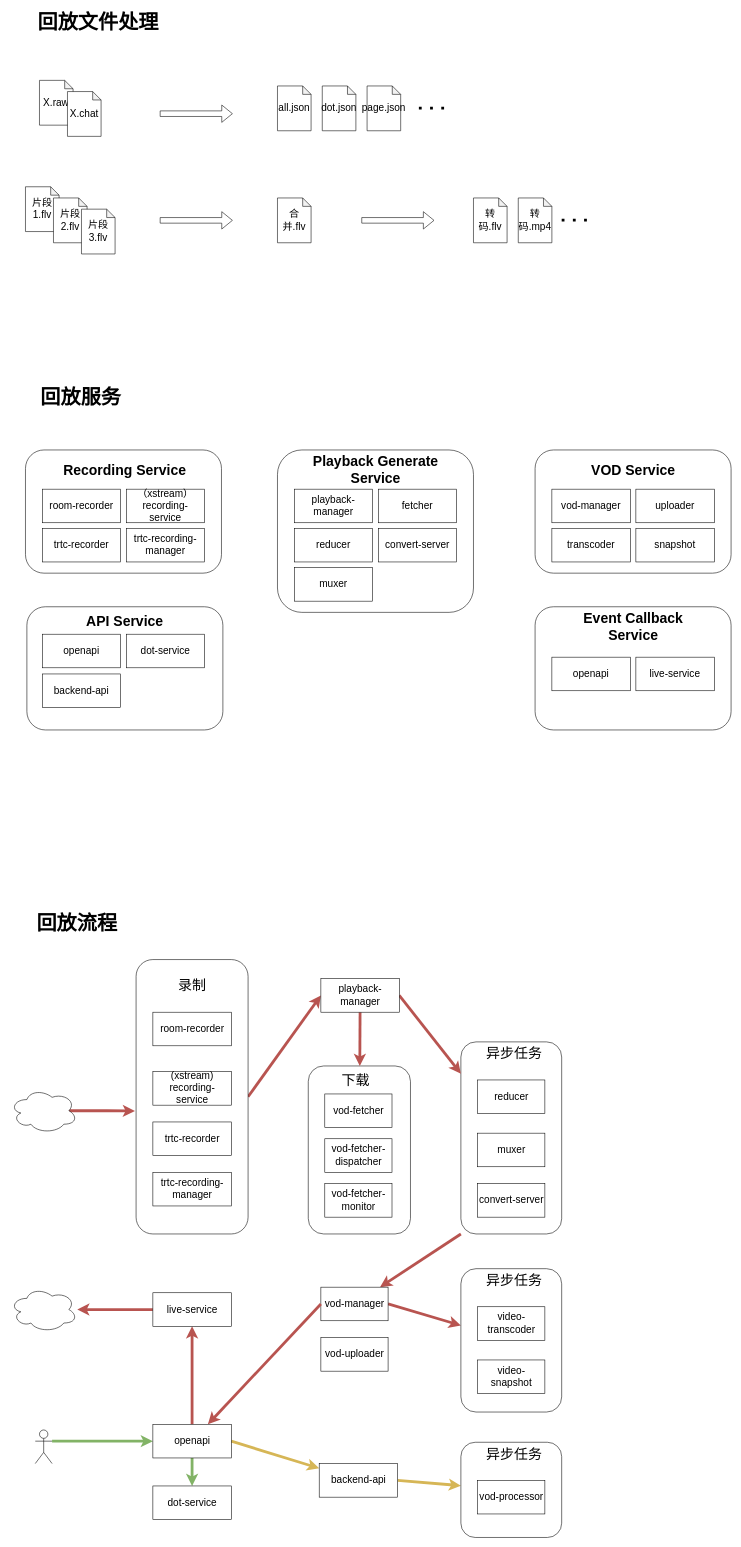
This 741x1547 diagram has some shape labels left out. Here are the shapes that lost their labels. From the top down, the centre of each, then its label:
pixel 43 1110: live
pixel 43 1309: partner
pixel 43 1446: User
